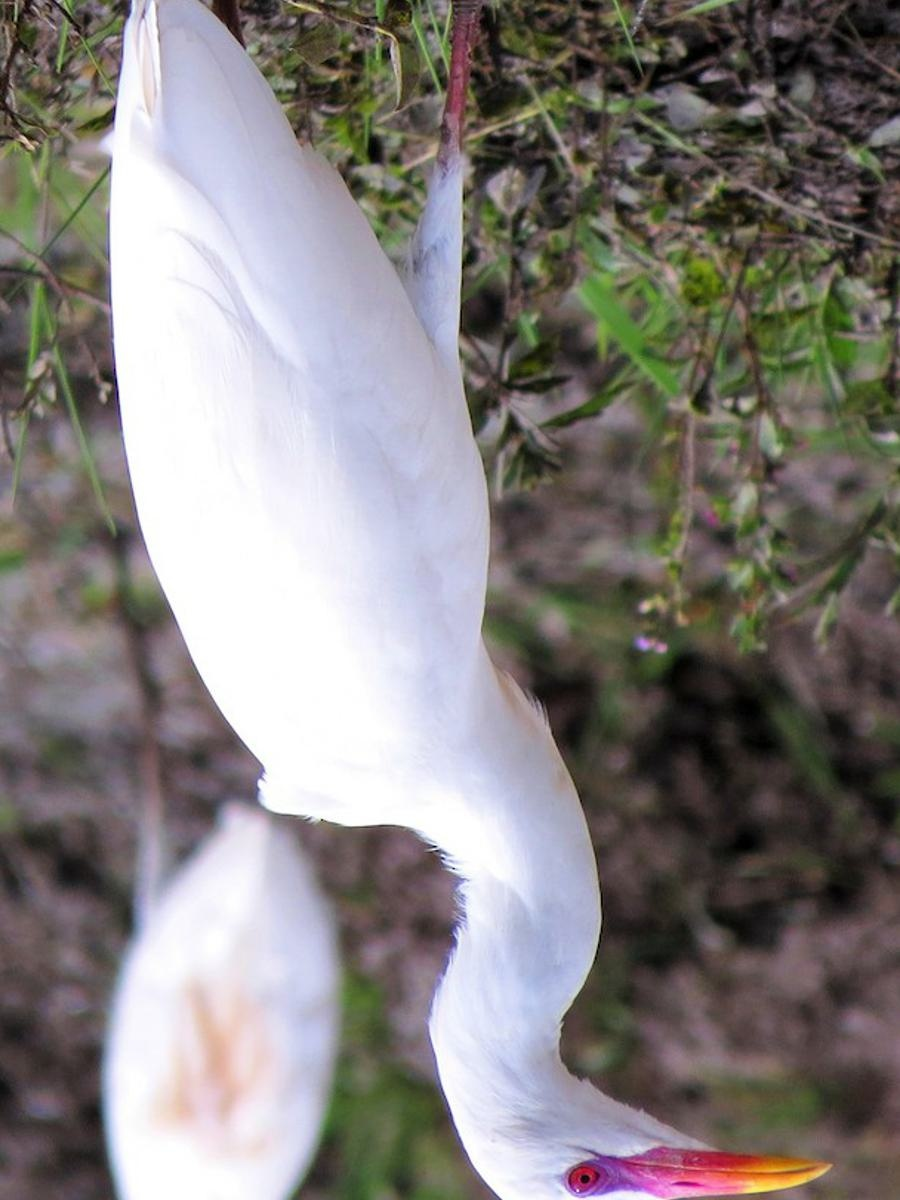egret: (1, 1, 839, 1195)
